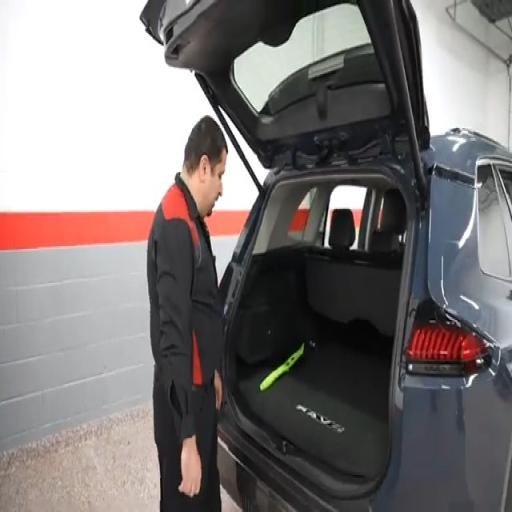emblem: (296, 404, 343, 433)
taillight: (406, 320, 491, 375)
trunk: (230, 248, 401, 479)
window: (253, 175, 389, 254), (477, 164, 511, 278), (323, 185, 367, 248), (496, 165, 511, 267)
windshield: (233, 3, 381, 115)
